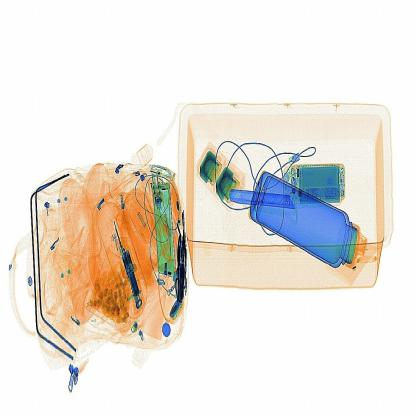pliers: (227, 184, 301, 226)
